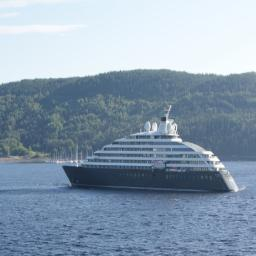cruises: (61, 101, 241, 197)
